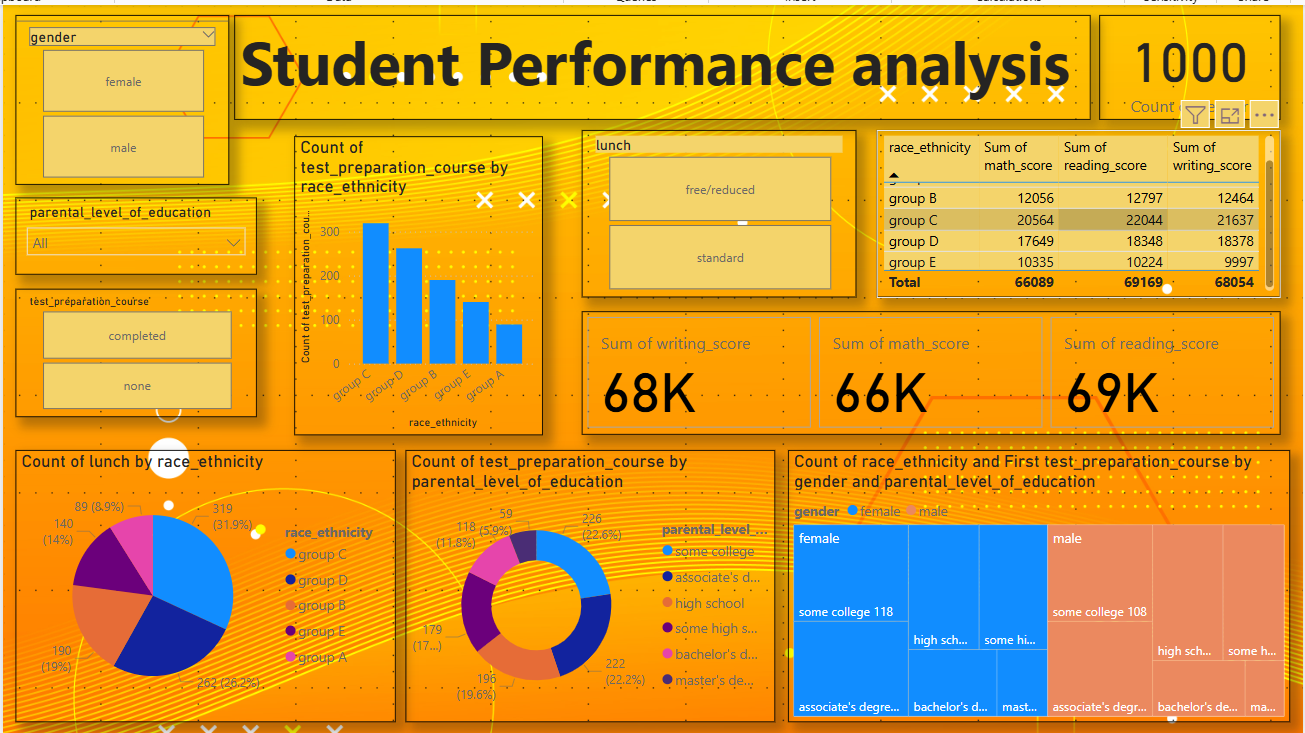

The dashboard page shown, as its layout file describes it:
{"tool":"powerbi","page":{"name":"Student","canvas":[1280,720],"ordinal":0},"visuals":[{"type":"slicer","fields":{"Values":["study_performance.gender"]},"box":[12.3,9.8,210.5,167.4],"z":0},{"type":"pieChart","fields":{"Category":["study_performance.race_ethnicity"],"Y":["CountNonNull(study_performance.lunch)"]},"box":[12.3,438.2,374.2,268.3],"z":1000},{"type":"textbox","box":[227.7,9.8,843.1,103.4],"z":2000},{"type":"lineStackedColumnComboChart","fields":{"Category":["study_performance.race_ethnicity"],"Y":["CountNonNull(study_performance.test_preparation_course)"]},"box":[286.8,129.2,244.9,294.2],"z":3000},{"type":"cardVisual","fields":{"Data":["Sum(study_performance.writing_score)","Sum(study_performance.math_score)","Sum(study_performance.reading_score)"]},"box":[569.8,301.5,688,121.8],"z":4000},{"type":"donutChart","fields":{"Category":["study_performance.parental_level_of_education"],"Y":["CountNonNull(study_performance.test_preparation_course)"]},"box":[396.3,438.2,364.3,268.3],"z":5000},{"type":"treemap","fields":{"Group":["study_performance.gender"],"Details":["study_performance.parental_level_of_education"],"Values":["CountNonNull(study_performance.race_ethnicity)"]},"box":[772.9,438.2,494.8,268.3],"z":6000},{"type":"card","fields":{"Values":["CountNonNull(study_performance.gender)"]},"box":[1079.4,9.8,178.5,103.4],"z":7000},{"type":"slicer","fields":{"Values":["study_performance.parental_level_of_education"]},"box":[12.3,189.5,237.5,76.3],"z":8000},{"type":"slicer","fields":{"Values":["study_performance.test_preparation_course"]},"box":[12.3,279.4,237.5,126.8],"z":9000},{"type":"slicer","fields":{"Values":["study_performance.lunch"]},"box":[569.8,123.1,270.8,164.9],"z":10000},{"type":"tableEx","fields":{"Values":["study_performance.race_ethnicity","Sum(study_performance.math_score)","Sum(study_performance.reading_score)","Sum(study_performance.writing_score)"]},"box":[860.3,123.1,397.5,164.9],"z":11000}]}

Visuals, with their boxes on the page's 1280x720 design canvas (x1, y1, x2, y2). These are canvas units, not pixel positions in the 1305x733 screenshot, which may show the page scaled, cropped or inside an application window:
slicer - study_performance.gender: (left=12, top=10, right=223, bottom=177)
pieChart - study_performance.race_ethnicity x CountNonNull(study_performance.lunch): (left=12, top=438, right=386, bottom=706)
textbox: (left=228, top=10, right=1071, bottom=113)
lineStackedColumnComboChart - study_performance.race_ethnicity x CountNonNull(study_performance.test_preparation_course): (left=287, top=129, right=532, bottom=423)
cardVisual - Sum(study_performance.writing_score) x Sum(study_performance.math_score): (left=570, top=302, right=1258, bottom=423)
donutChart - study_performance.parental_level_of_education x CountNonNull(study_performance.test_preparation_course): (left=396, top=438, right=761, bottom=706)
treemap - study_performance.gender x study_performance.parental_level_of_education: (left=773, top=438, right=1268, bottom=706)
card - CountNonNull(study_performance.gender): (left=1079, top=10, right=1258, bottom=113)
slicer - study_performance.parental_level_of_education: (left=12, top=190, right=250, bottom=266)
slicer - study_performance.test_preparation_course: (left=12, top=279, right=250, bottom=406)
slicer - study_performance.lunch: (left=570, top=123, right=841, bottom=288)
tableEx - study_performance.race_ethnicity x Sum(study_performance.math_score): (left=860, top=123, right=1258, bottom=288)
